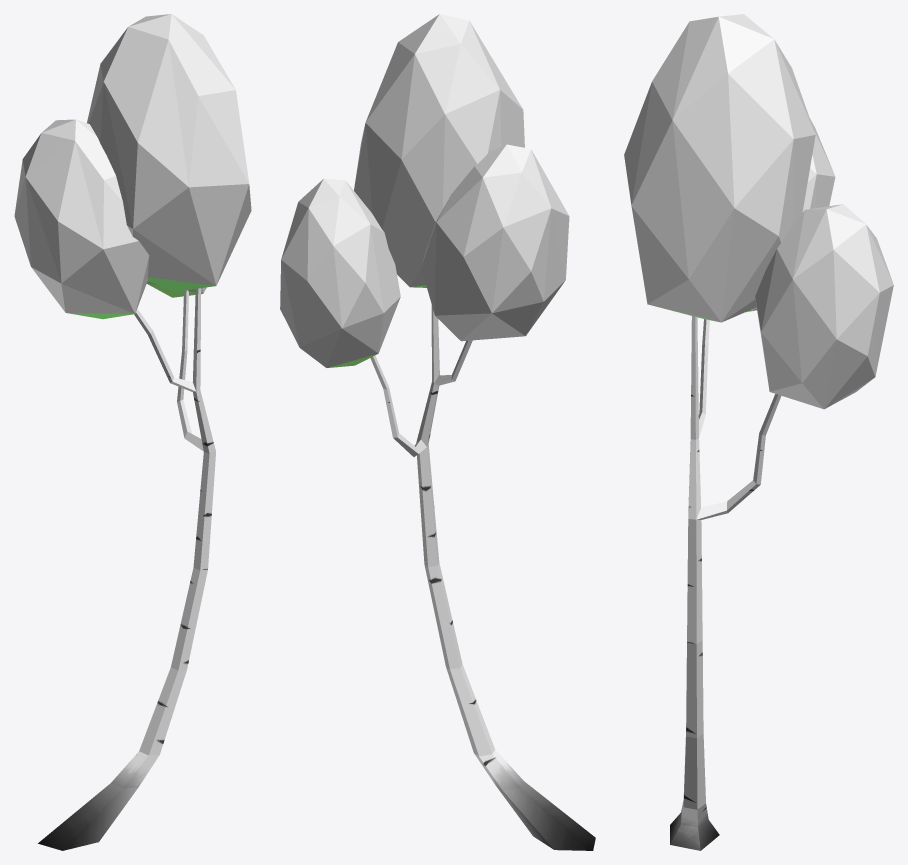
The model's file is Birch_Tree_l_Snow_BT_04.fbx.
The picture shows the model from 3 angles, left to right: view 1: azimuth 30°, elevation 25°; view 2: azimuth 150°, elevation 25°; view 3: azimuth 270°, elevation 25°; orthographic projection. The views are drawn at different scales.
Parts seen in each view (by area): view 1: Birch_Tree_l_Snow_BT_04; view 2: Birch_Tree_l_Snow_BT_04; view 3: Birch_Tree_l_Snow_BT_04.
Boxes of the visible parts, x1,y1,x2,y2 form: Birch_Tree_l_Snow_BT_04: [14, 14, 251, 850]; Birch_Tree_l_Snow_BT_04: [280, 14, 595, 850]; Birch_Tree_l_Snow_BT_04: [624, 14, 893, 850].
Bounding box in the file's own units: 407 × 1265 × 352.
